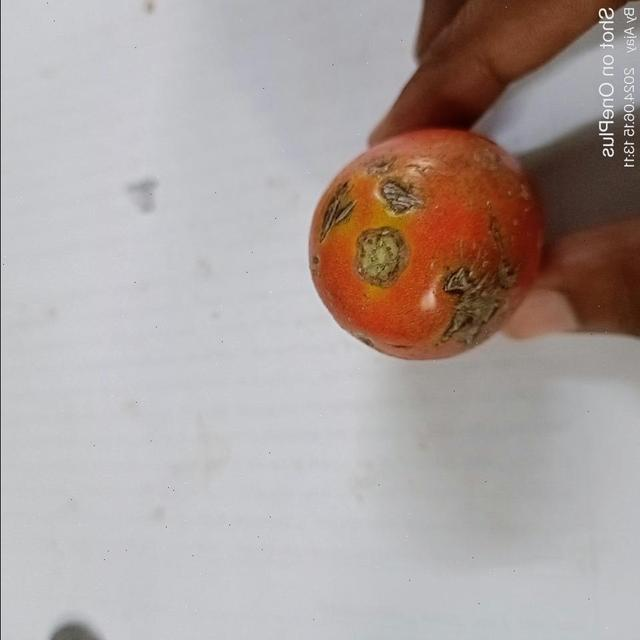Bacterial Spot Fruit: (28, 26, 317, 193)
